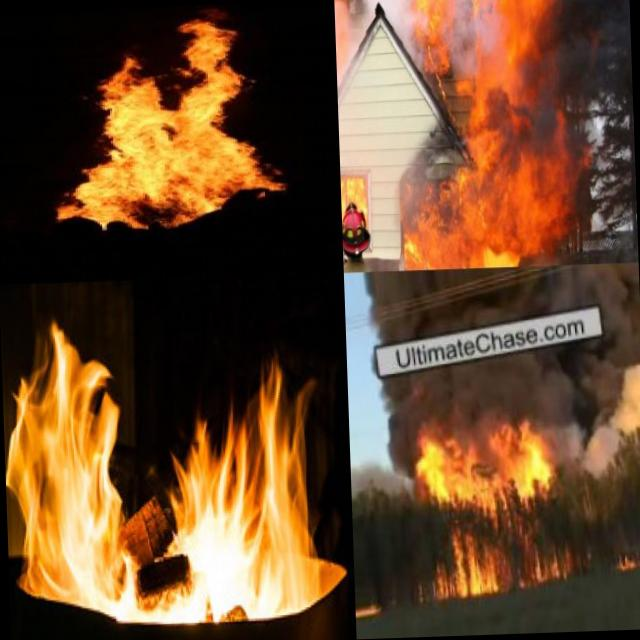fire: (0, 312, 327, 640), (54, 10, 291, 242), (473, 0, 568, 267), (414, 422, 552, 600), (398, 184, 484, 270), (452, 71, 481, 186), (416, 0, 454, 75), (611, 542, 640, 575), (551, 548, 576, 584), (344, 176, 368, 209), (354, 596, 382, 624)
smoke: (544, 345, 640, 476), (558, 0, 633, 133), (380, 374, 546, 428), (446, 0, 501, 71), (358, 0, 421, 48)
